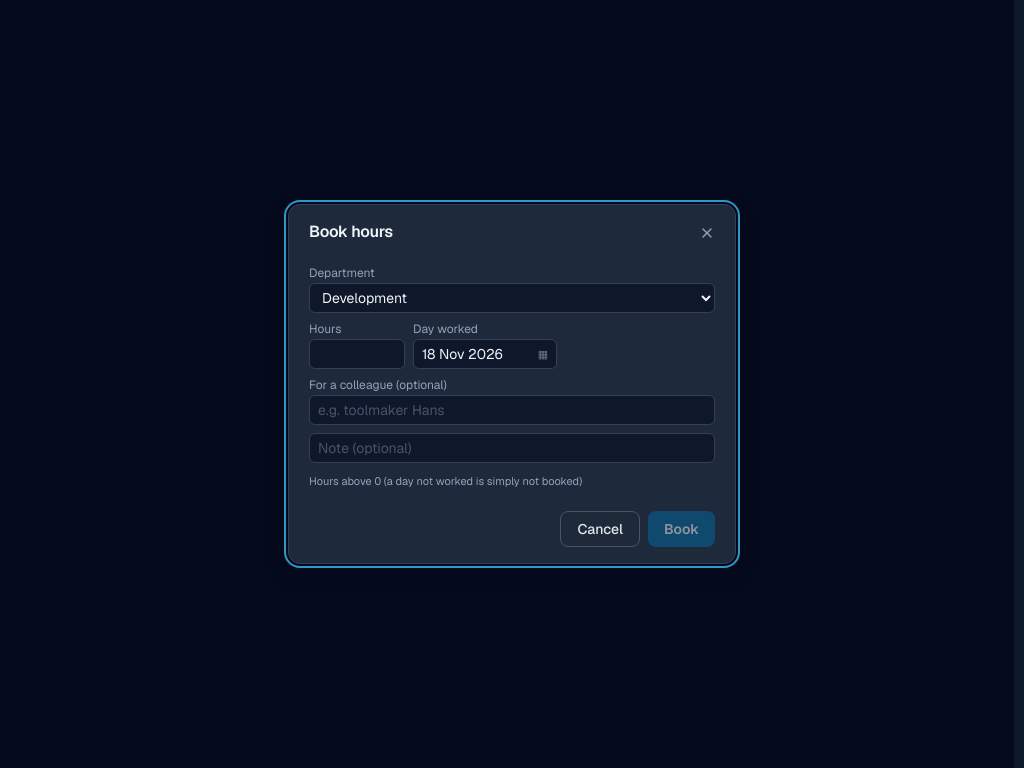
Test: BookHoursDialog › A5-04: the lead books for a department with no member here, worded
The width and height of the screenshot is (1024, 768).
Select "Tool Engineer" in the dropdown with test id "book-hours-dept". click: [512, 298]
box: [309,283,715,313]
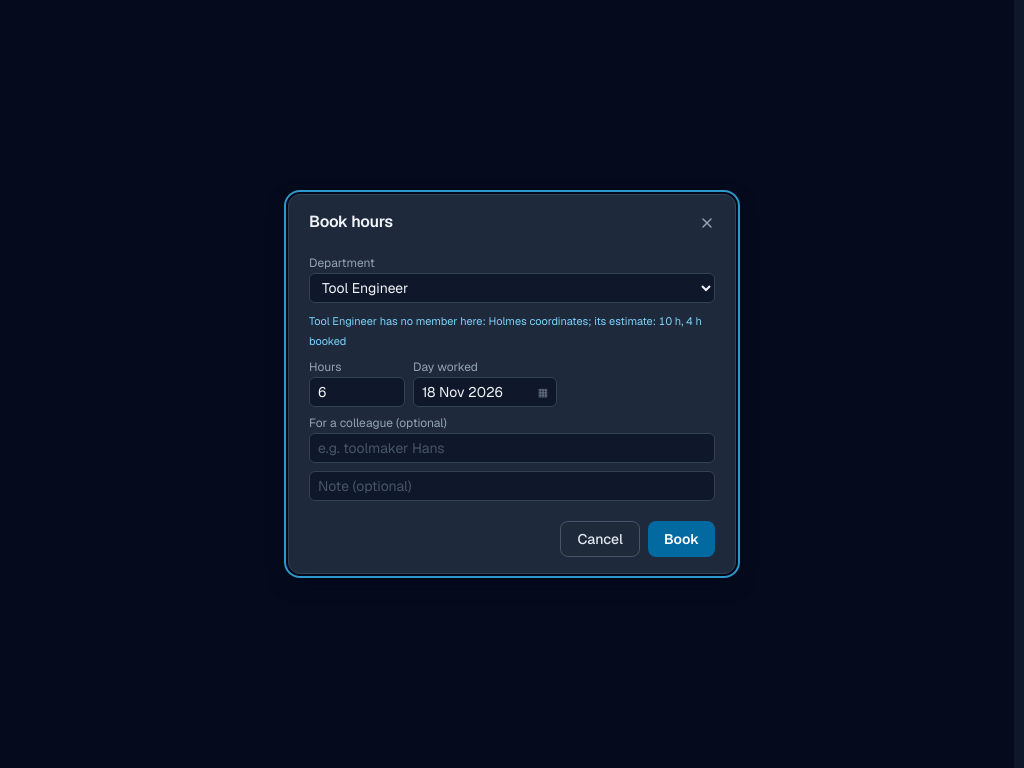
Expected: the text with test id "book-hours-source" shows "Holmes coordinates", [309,314,702,348]
